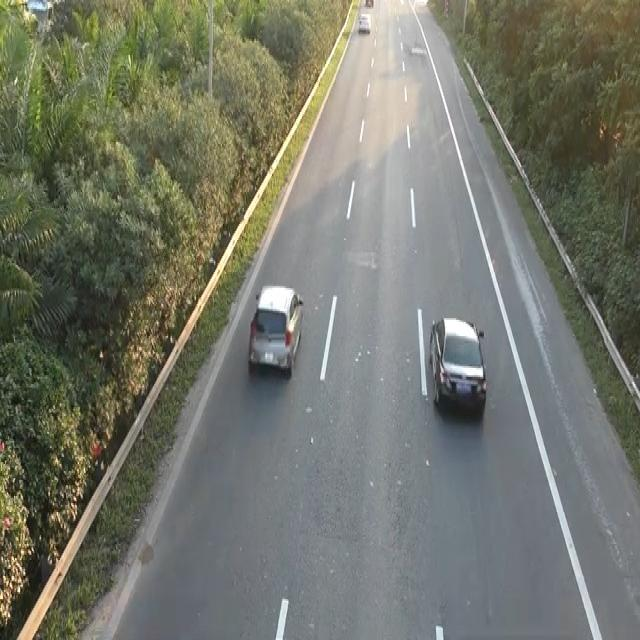bus: (427, 311, 488, 416), (246, 281, 305, 377), (357, 11, 371, 34)
